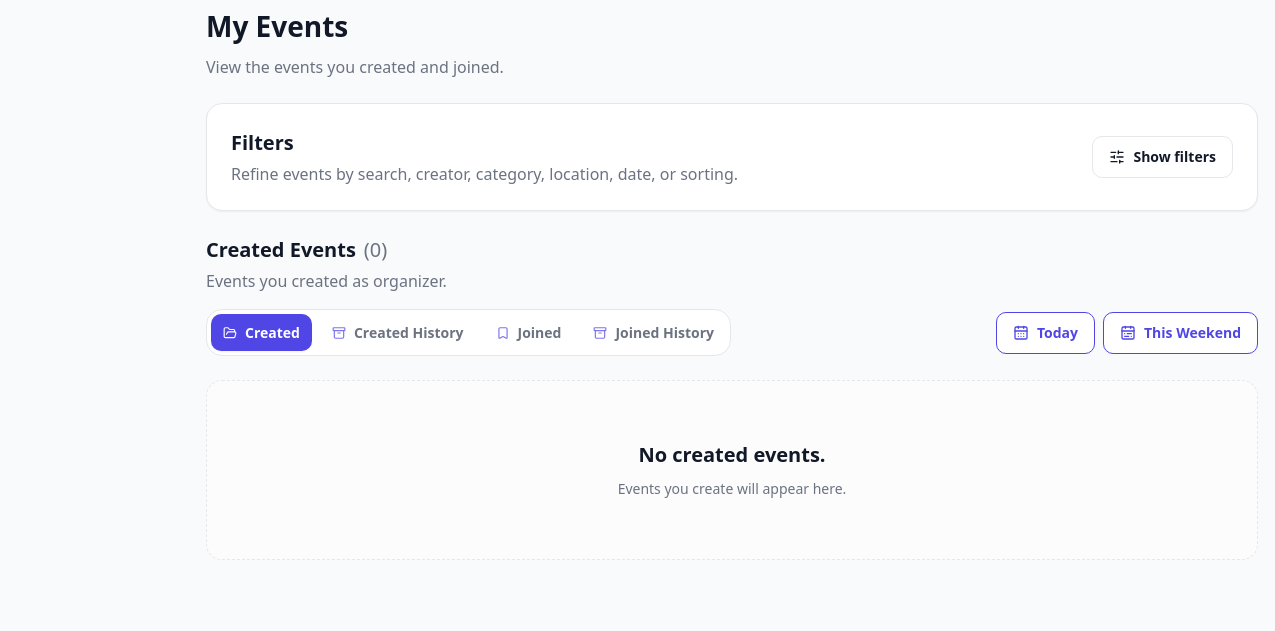
it: MyEventsPage › changes view when clicking Joined History tab
The image size is (1275, 631).
Check: the heading "No created events." is shown, box [638,440,826,470]
Click the tab "Joined History": (654, 332) [581,314,726,351]
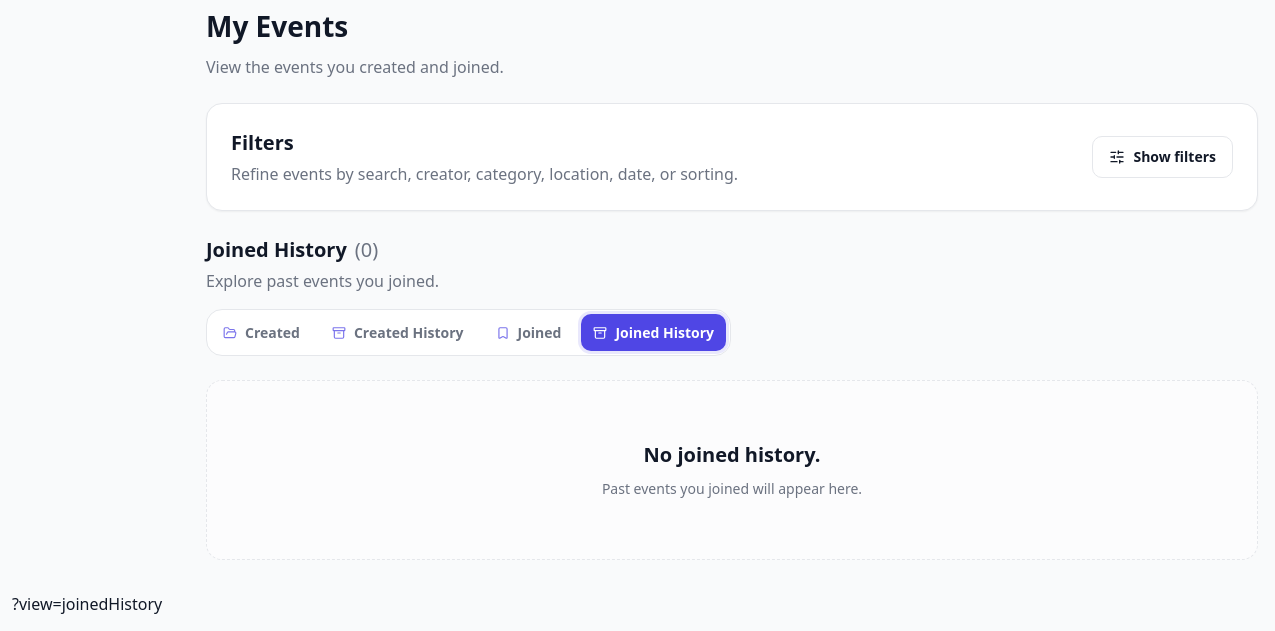
Check: the heading "Joined History(0)" is shown, box [206,236,378,263]
